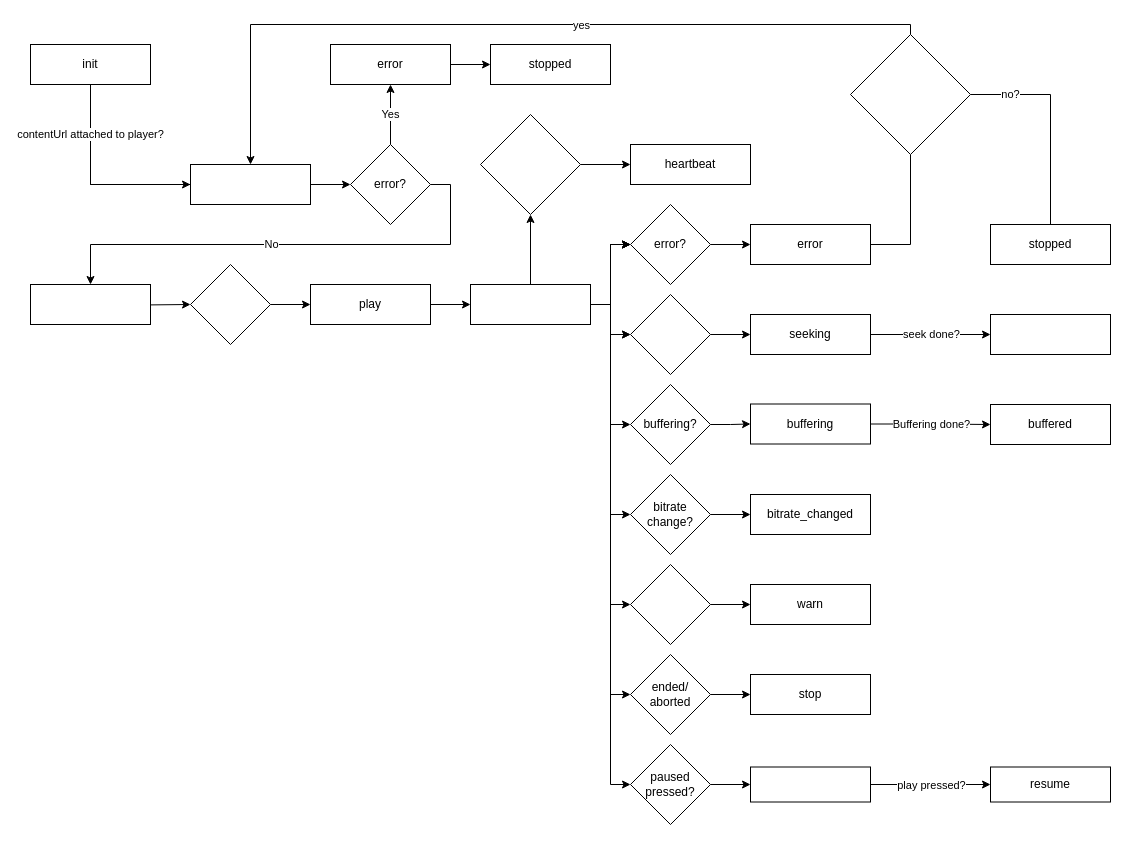
This 1128x842 diagram has some shape labels left out. Each missing label, with the box of its shape:
attempt restart?: (850, 34, 970, 154)
loaded: (30, 284, 150, 324)
loading: (190, 164, 310, 204)
pause: (750, 766, 870, 802)
play requested: (190, 264, 270, 344)
playing: (470, 284, 590, 324)
seek?: (630, 294, 710, 374)
seeked: (990, 314, 1110, 354)
warning?: (630, 564, 710, 644)
{x} seconds Interval: (480, 114, 580, 214)
